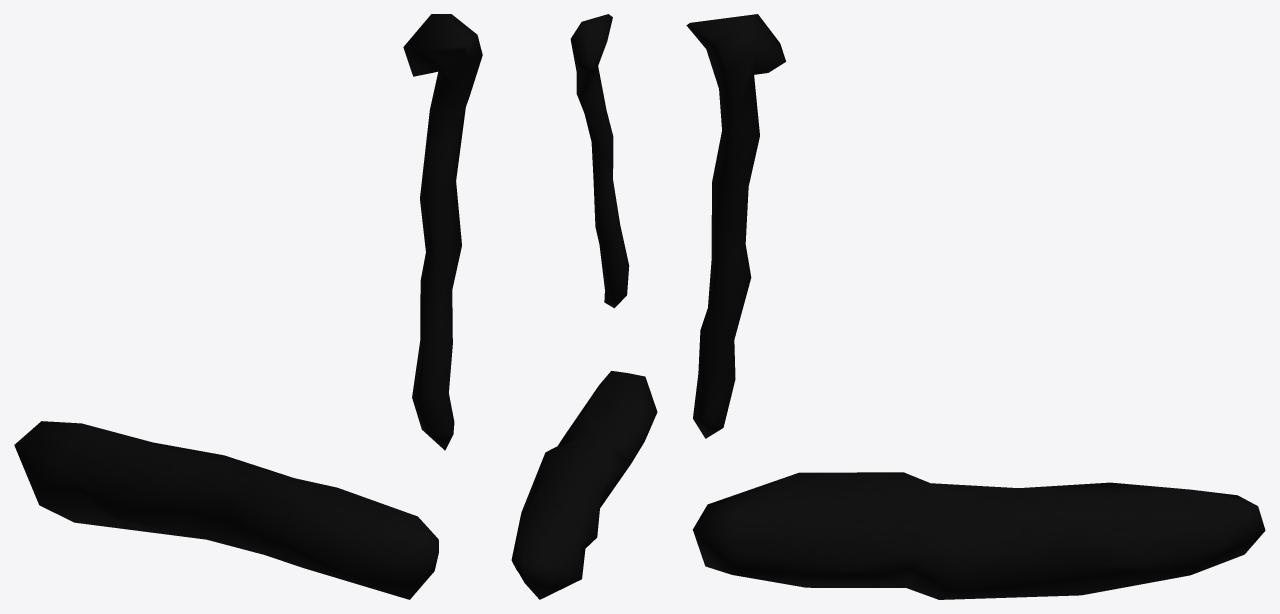
File: cig black.glb
3 renders of one model, left to right at view 1: azimuth 30°, elevation 25°; view 2: azimuth 150°, elevation 25°; view 3: azimuth 270°, elevation 25°, orthographic. The views are drawn at different scales.
Visible parts, largest first — view 1: smoke_cig_black.001; view 2: smoke_cig_black.001; view 3: smoke_cig_black.001.
Part boxes in pixels (x1,y1,x2,y2): smoke_cig_black.001: (14,14,482,599); smoke_cig_black.001: (511,14,657,599); smoke_cig_black.001: (686,14,1265,599).
Bounding box in the file's own units: 0.0407 × 0.1039 × 0.0861.
Materials: 2 (2 with a texture image).
